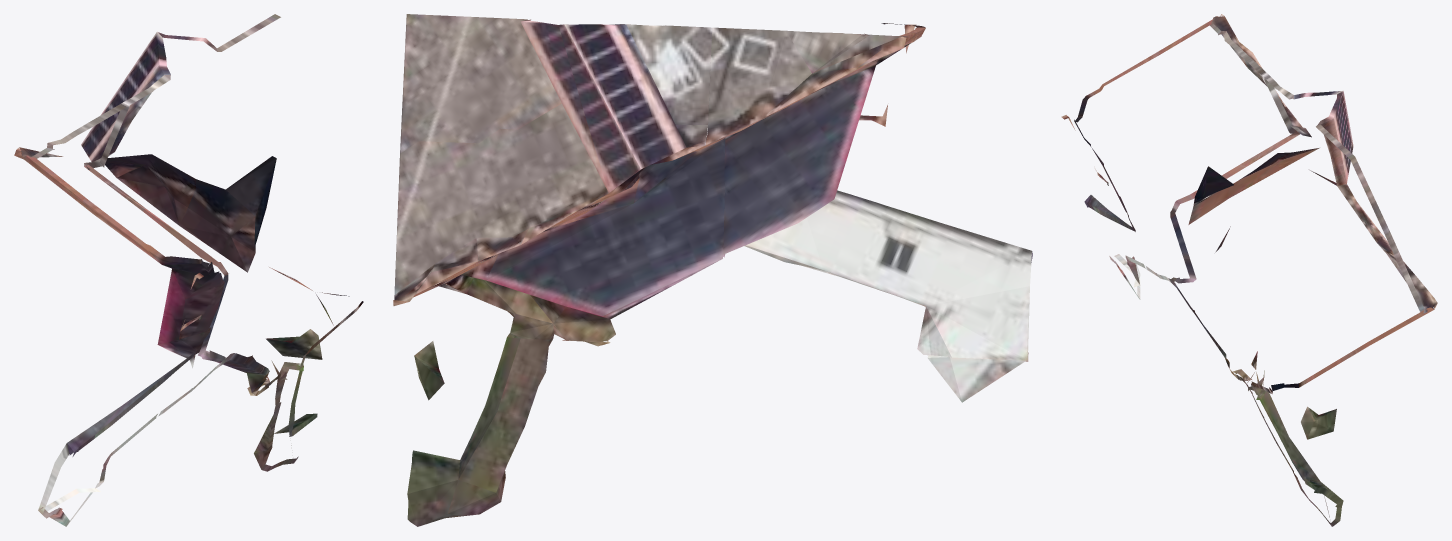
File: AJVsH2zJDP7zU_zYGz2RYRgGHmZh3PrdLUgIoCw4RWUYfIsBB2G3yi1RBoDf-Y1oT8mrcslOkUhBhWS4pGPqp5-fqbIzBn4mhmAK49aZxl0x6jp3mMyJz361OG6pI7JK5uwgOFU3GH2Wx-lEQXceZor-bZCd.glb
3 views of the same model, side by side, from view 1: azimuth 30°, elevation 25°; view 2: azimuth 150°, elevation 25°; view 3: azimuth 270°, elevation 25° (orthographic). The views are drawn at different scales.
Bounding box in the file's own units: 33.1 × 34.73 × 30.93.
Materials: 1 (1 with a texture image).
